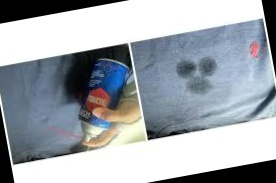oil: (167, 51, 223, 101)
